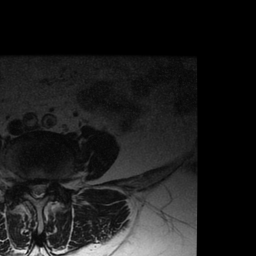CCS_stenosis: (34, 177, 41, 203)
LFS_severe_stenosis: (49, 171, 57, 192)
LLS_severe_stenosis: (42, 177, 49, 199)
RFS_severe_stenosis: (20, 171, 28, 190)
RLS_stenosis: (27, 177, 34, 198)
